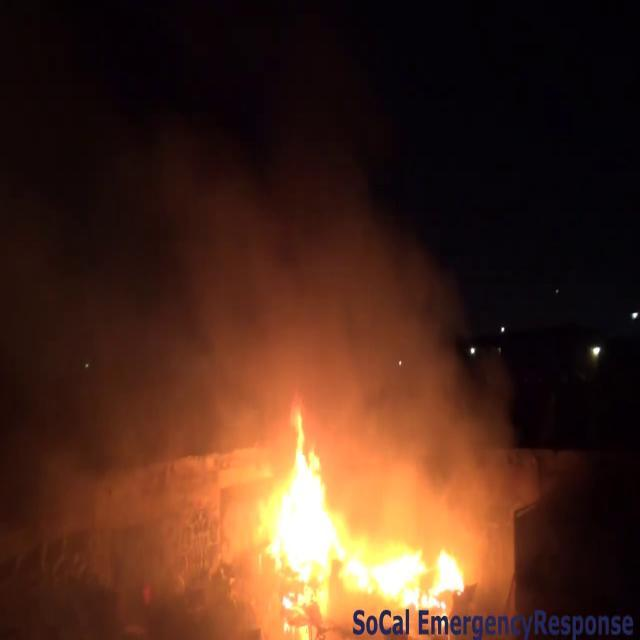Fire: (239, 399, 473, 617)
Smoke: (4, 58, 539, 560)
